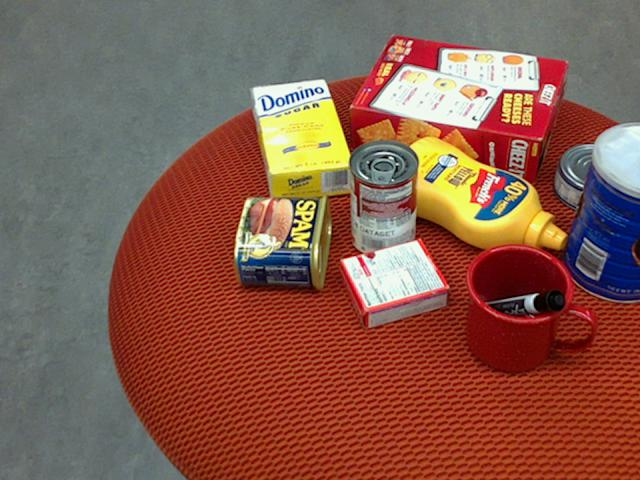cracker_box: (349, 34, 566, 181)
gelatin_box: (335, 240, 447, 330)
large_marker: (477, 288, 565, 321)
master_chef_can: (561, 121, 639, 303)
mug: (463, 243, 593, 373)
mustard_bottle: (381, 136, 566, 251)
potted_meat_can: (233, 193, 330, 290)
sugar_box: (250, 77, 355, 204)
tomato_soup_can: (347, 137, 417, 258)
tuna_fish_can: (552, 142, 638, 214)
